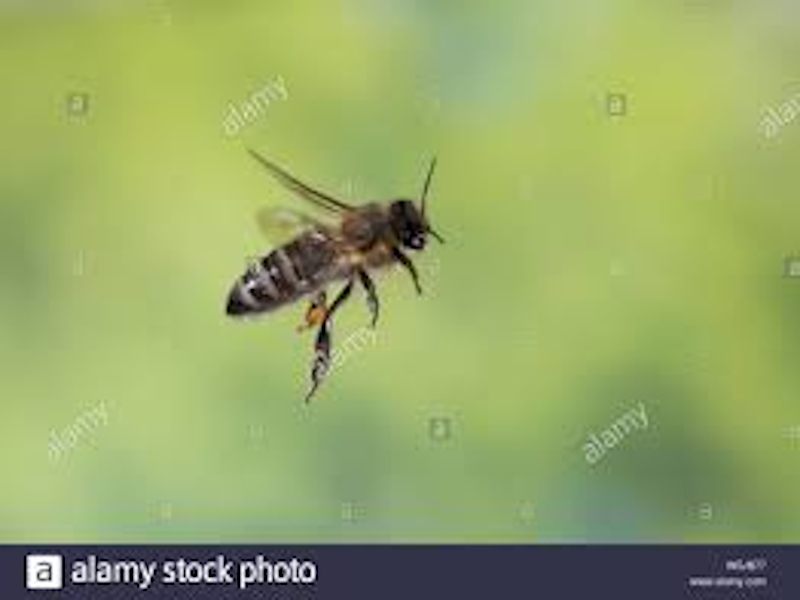abeja: (208, 137, 453, 403)
